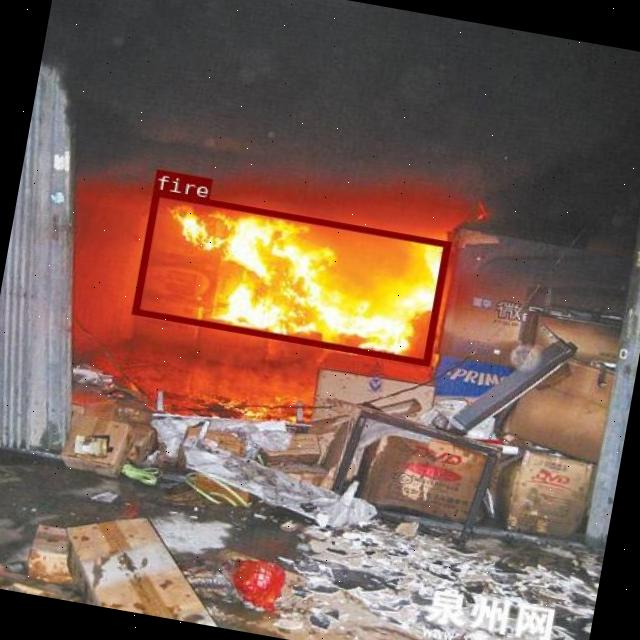fire: (130, 188, 450, 364)
